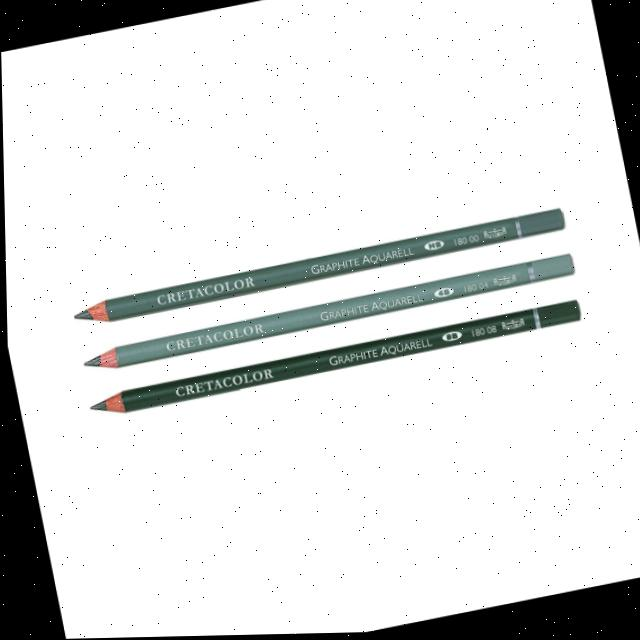pencil: (67, 205, 569, 330), (76, 251, 577, 374), (81, 298, 585, 420)
